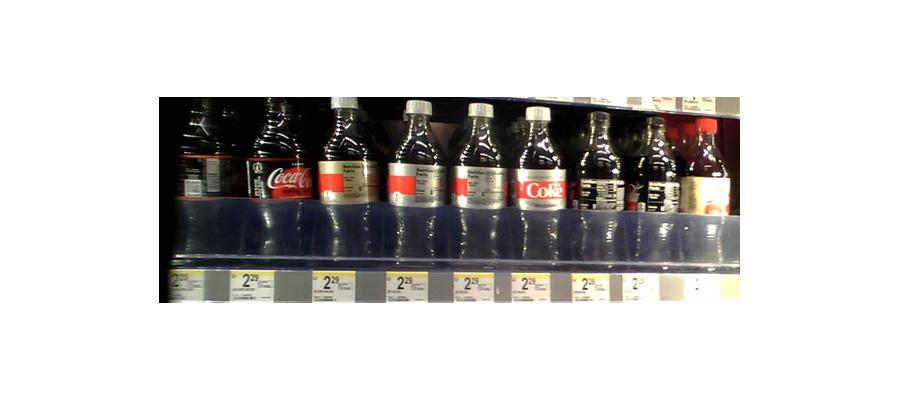bottle: (182, 91, 252, 265), (251, 93, 313, 260), (388, 94, 448, 264), (318, 98, 379, 263), (451, 101, 508, 267), (572, 105, 627, 274), (514, 103, 567, 270), (631, 110, 679, 270), (681, 107, 731, 260)
